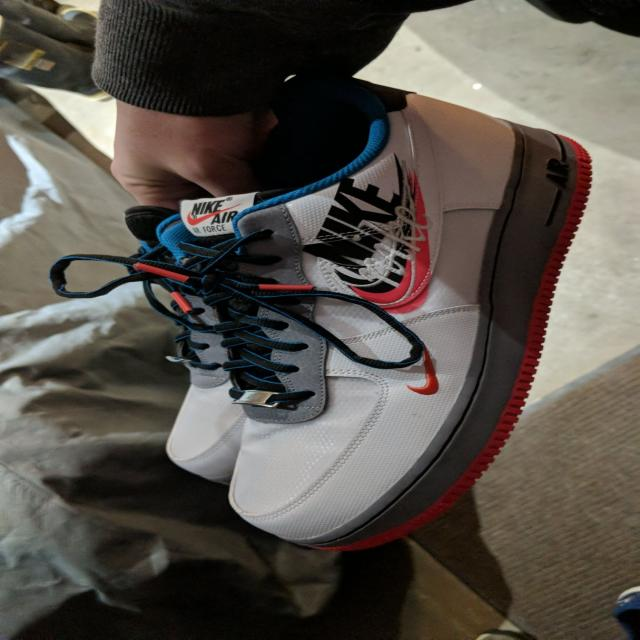shoe: (129, 80, 611, 560)
